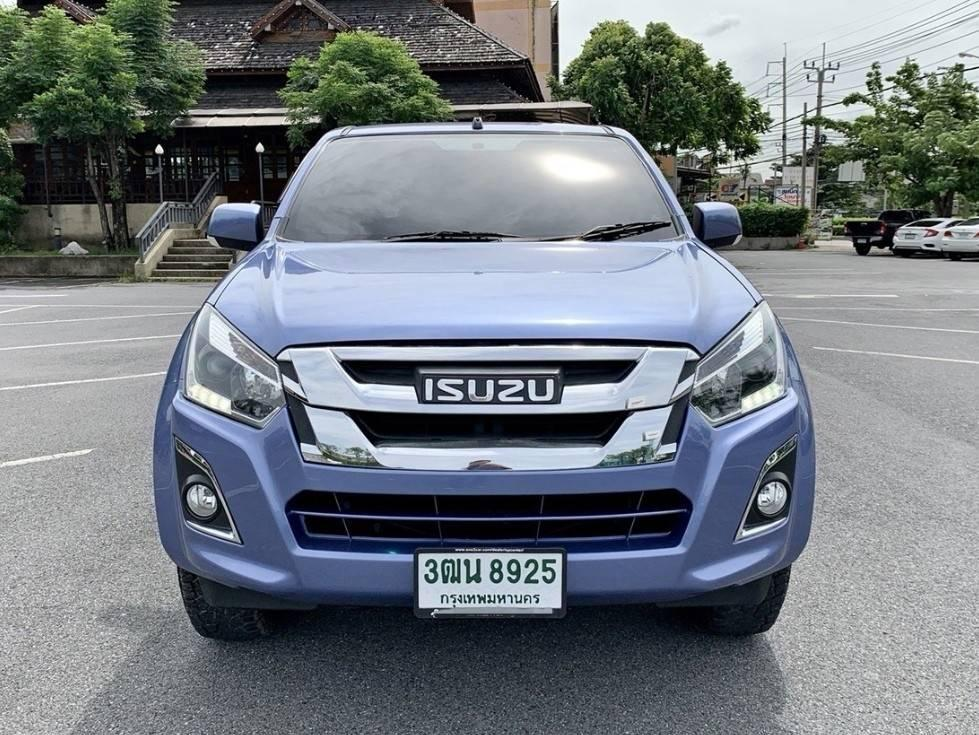license-plate: (414, 544, 571, 617)
